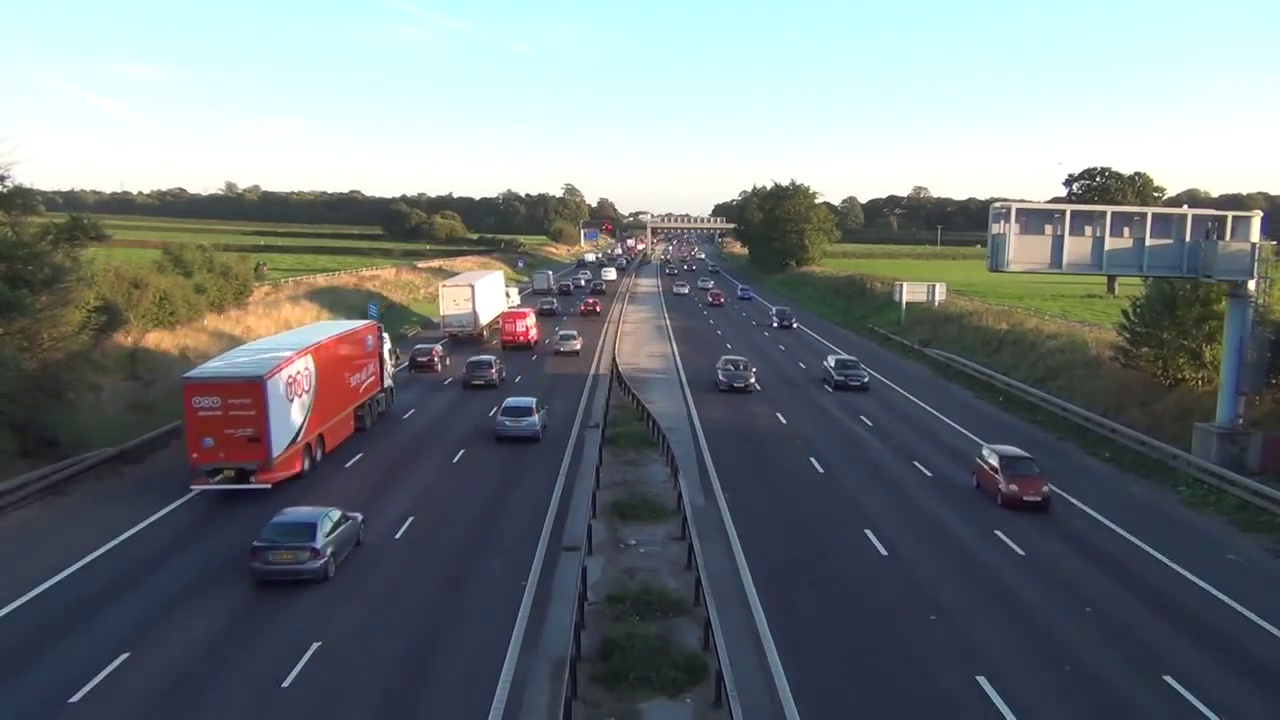bus: (250, 506, 364, 586), (972, 445, 1054, 511), (496, 397, 549, 442), (820, 356, 870, 390), (714, 356, 760, 391), (463, 354, 507, 389), (408, 342, 448, 373), (550, 330, 583, 357), (767, 307, 799, 331), (535, 297, 560, 315), (580, 298, 600, 315), (736, 285, 754, 301), (707, 290, 726, 305), (696, 277, 714, 290), (673, 282, 690, 294)
car: (185, 321, 397, 491), (440, 271, 504, 338)
lorry: (502, 286, 522, 308)
minibus: (501, 308, 538, 350)
